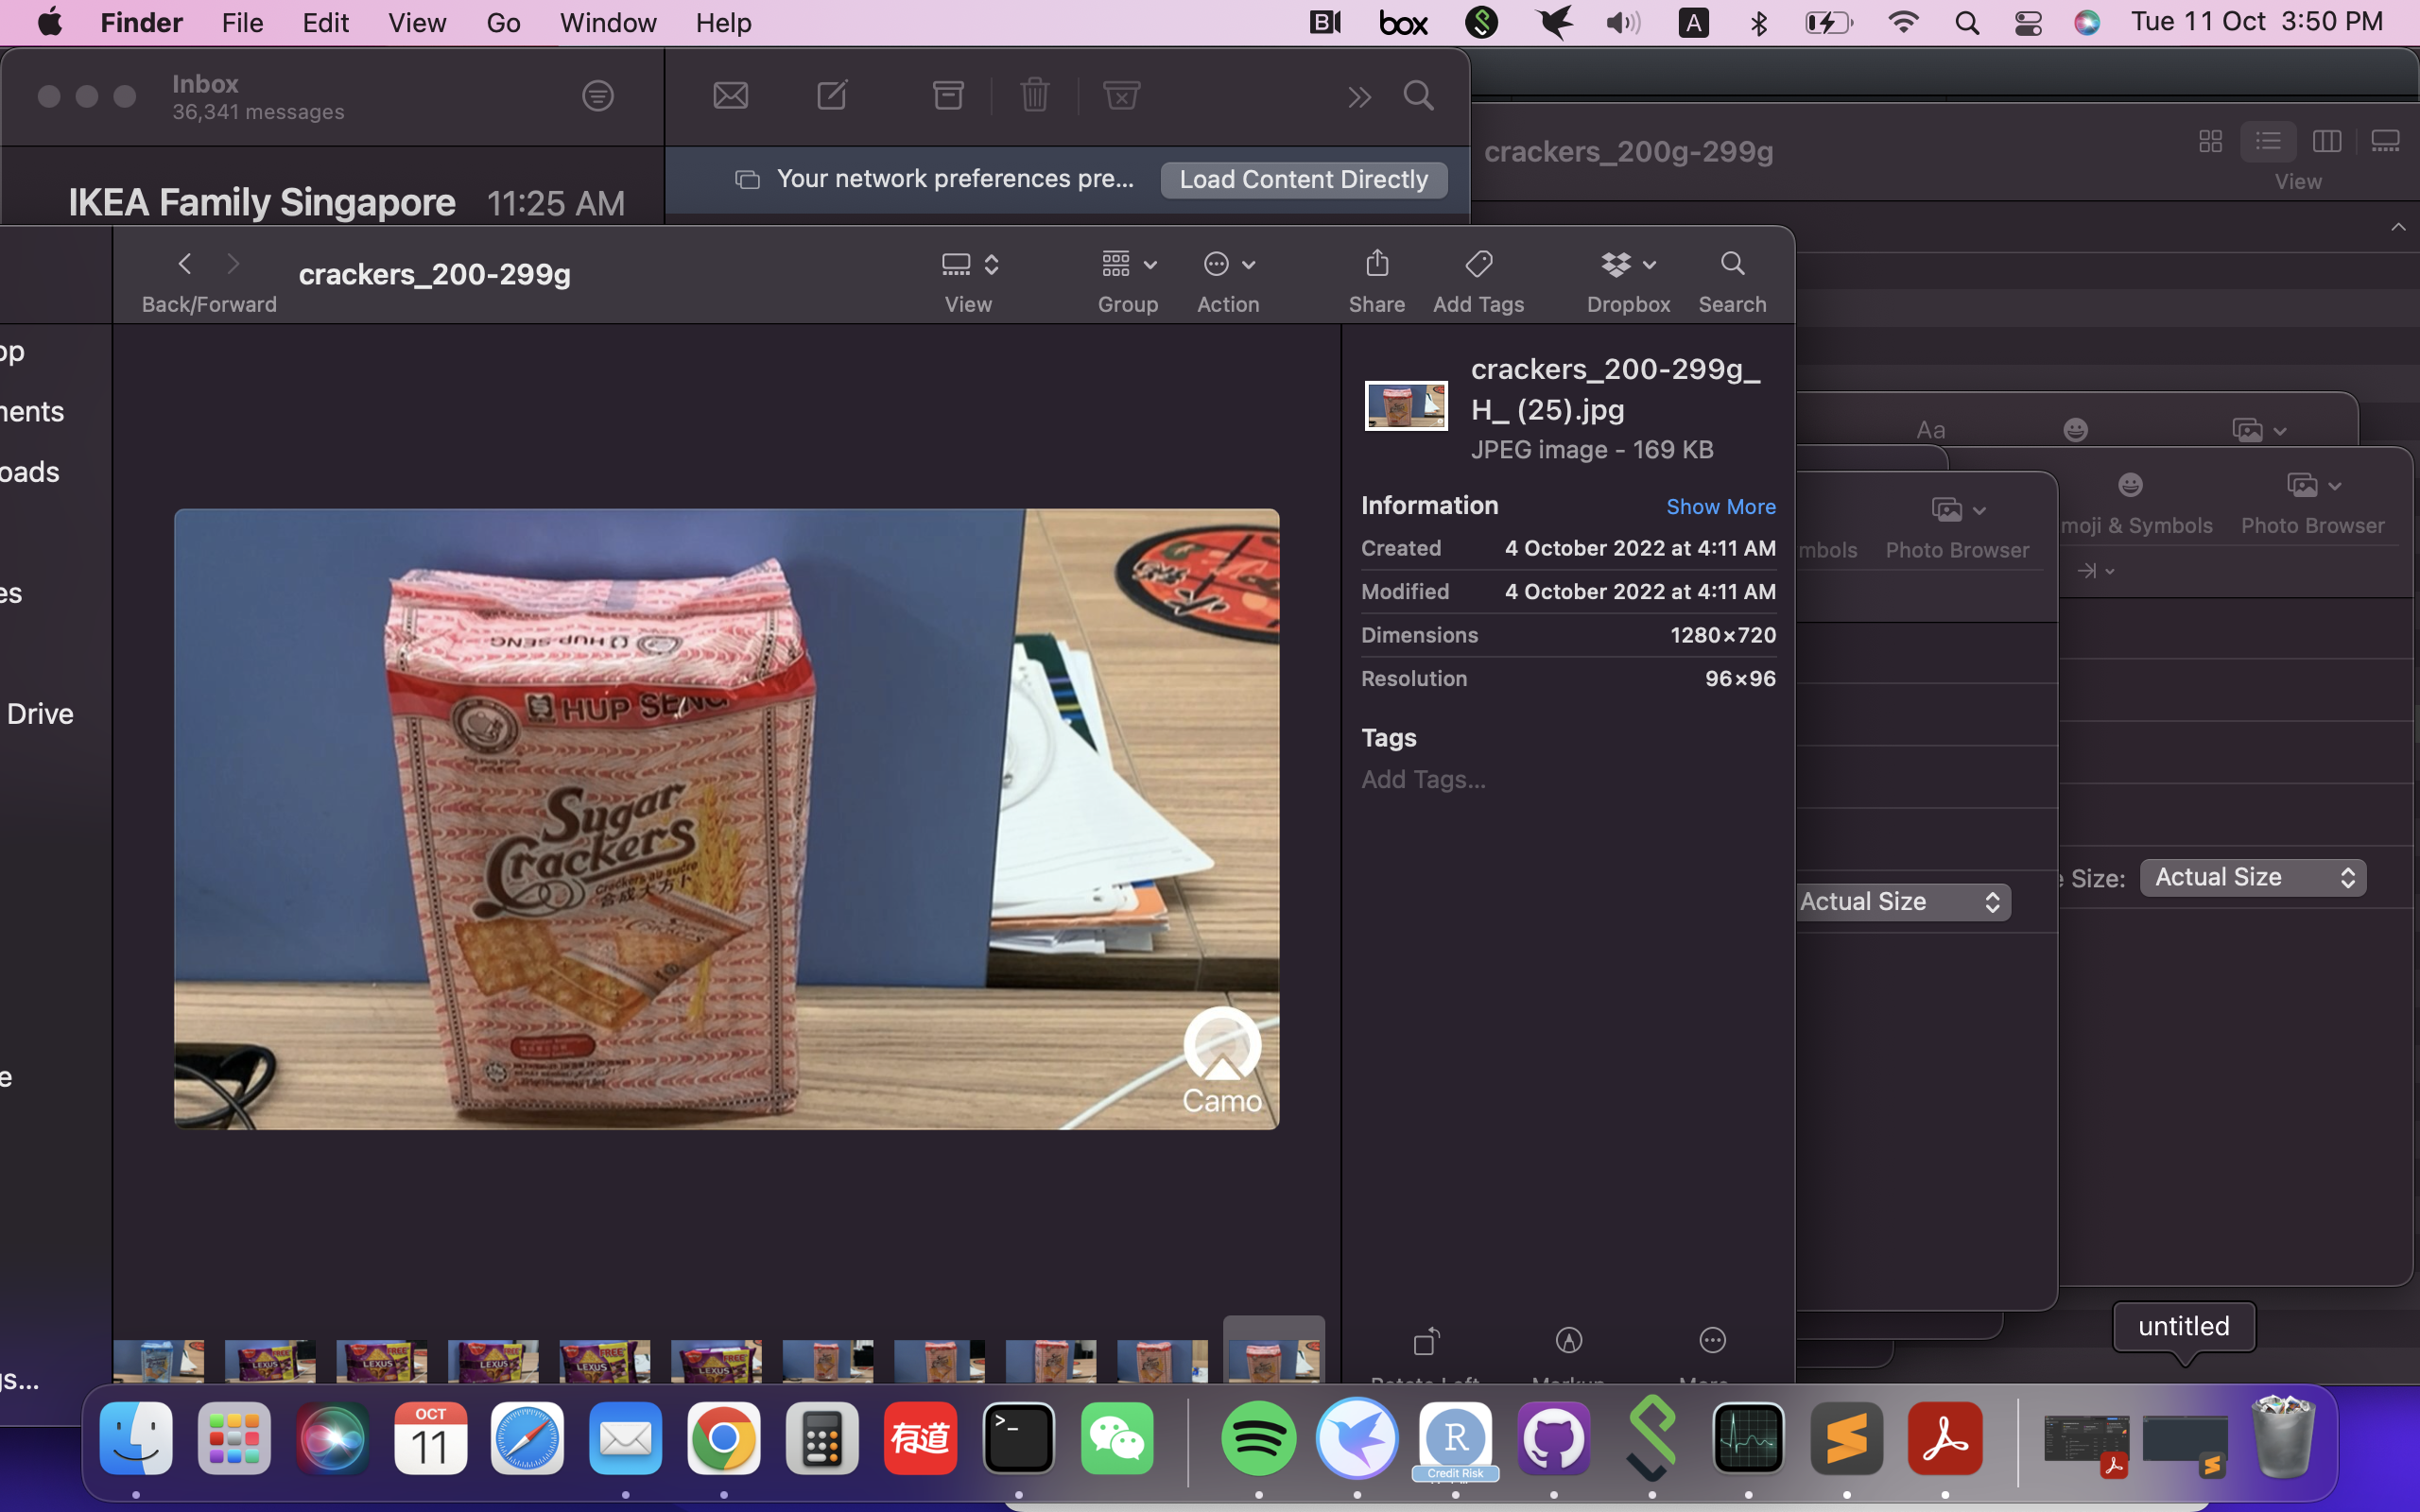crackers_150g: (439, 639, 782, 1094)
